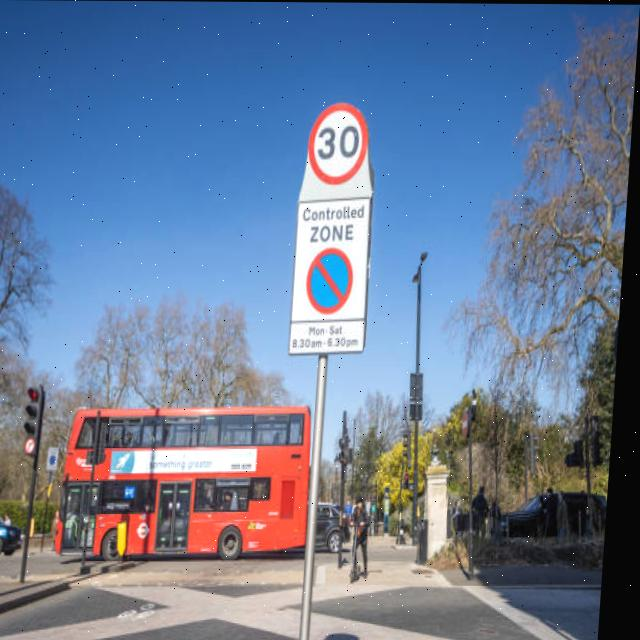Speed limit 30: (307, 100, 374, 187)
